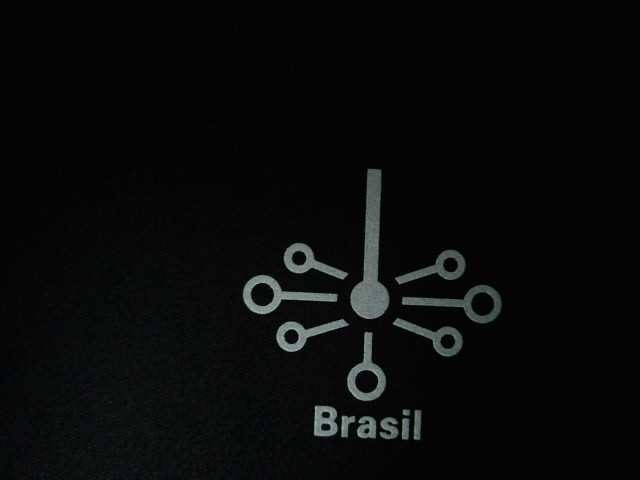BG_Brasil: (220, 152, 523, 449)
